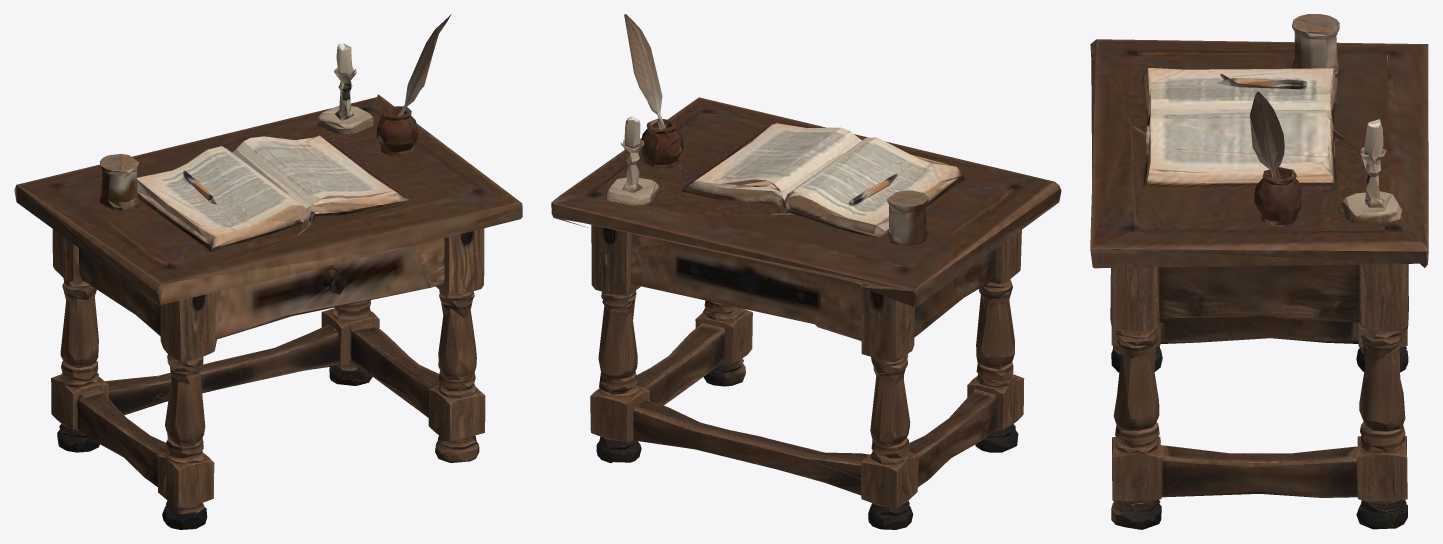
The model's file is desk.glb.
3 views of the same model, side by side, from view 1: azimuth 30°, elevation 25°; view 2: azimuth 150°, elevation 25°; view 3: azimuth 270°, elevation 25° (orthographic). The views are drawn at different scales.
Parts seen in each view (by area): view 1: desk; view 2: desk; view 3: desk.
Boxes of the visible parts, <box> form: desk: <box>14,14,522,529</box>; desk: <box>551,14,1061,529</box>; desk: <box>1090,14,1428,529</box>.
Size of the model in its own units: 1.08 by 1.1 by 0.7424.
1 material, 1 textured.
